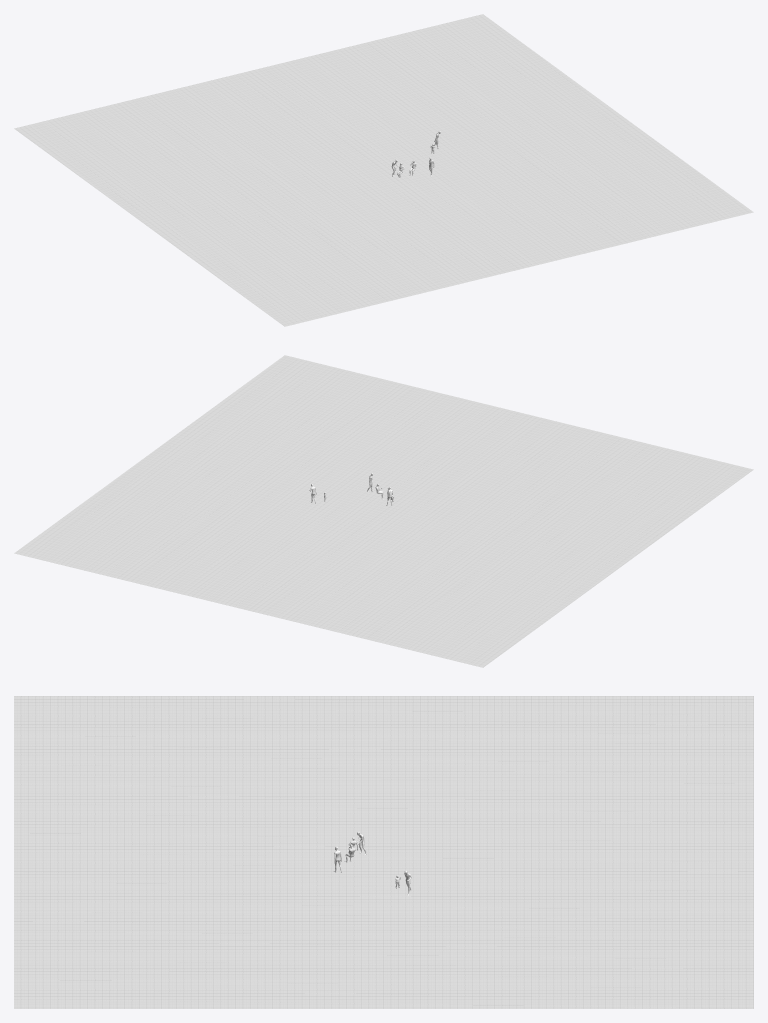
Rendered from GeoMeshCombinee.fbx.
3 views of the same model, one above another, from view 1: azimuth 30°, elevation 25°; view 2: azimuth 150°, elevation 25°; view 3: azimuth 270°, elevation 25° (orthographic). The views are drawn at different scales.
Parts seen in each view (by area): view 1: adult-male_LOD1.005; view 2: adult-male_LOD1.005; view 3: adult-male_LOD1.005.
Boxes of the visible parts, <box> form: adult-male_LOD1.005: <box>14,14,753,326</box>; adult-male_LOD1.005: <box>14,355,753,667</box>; adult-male_LOD1.005: <box>14,696,753,1008</box>.
Bounding box in the file's own units: 4500 × 172 × 4500.
3 materials, 3 textured.
